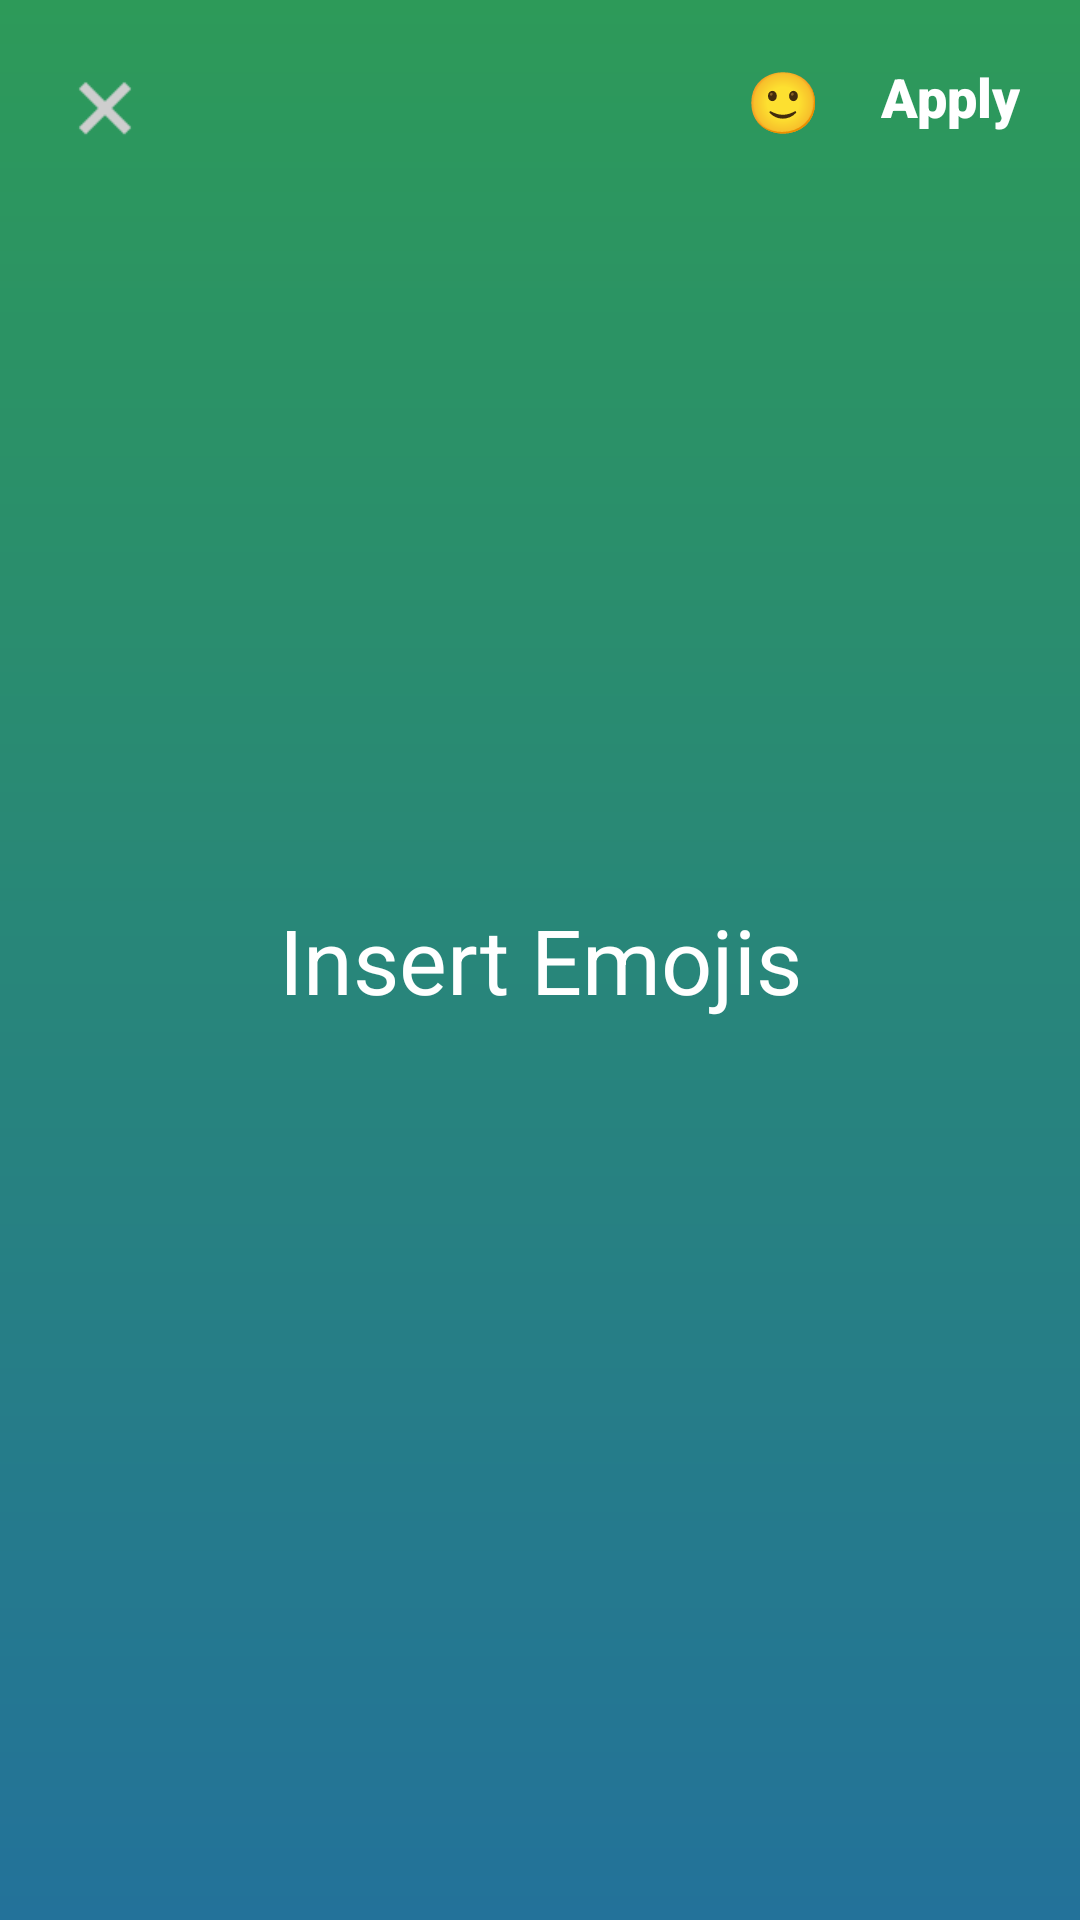

Icon bounding boxes for this 1080px×1920px phone screenshot, format box(x1, y1, x2, y2):
cancel: box(79, 82, 131, 134)
